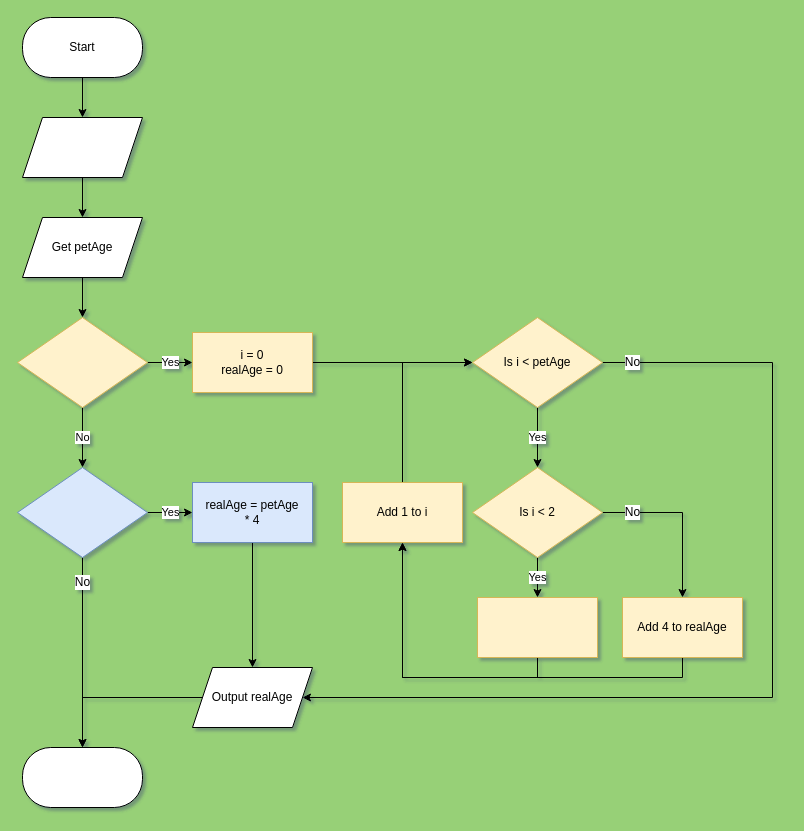
This 804x831 diagram has some shape labels left out. Here are the shapes that lost their labels. From the top down, the box of each, then its label:
(22, 116, 142, 178): Get petType
(16, 316, 148, 408): Is petType == cat?
(16, 466, 148, 558): Is petType == dog?
(476, 596, 598, 658): Add 25 to realAge
(22, 746, 142, 808): End
